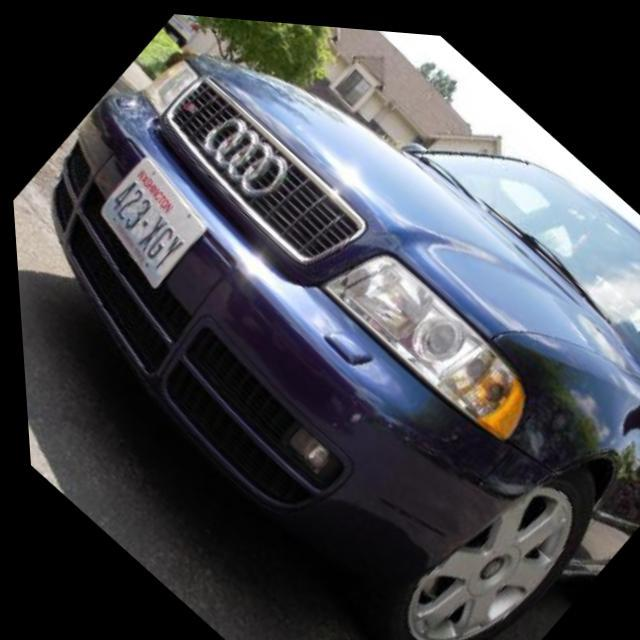license_plate: (77, 147, 219, 292)
